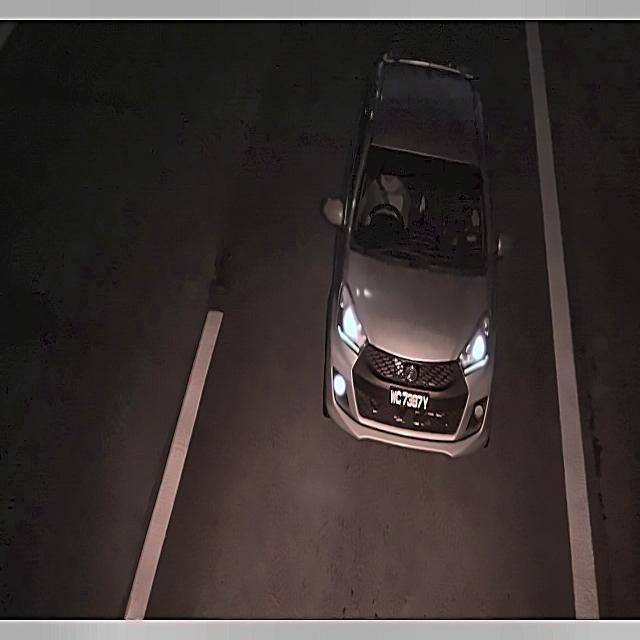car: (387, 382, 433, 415)
